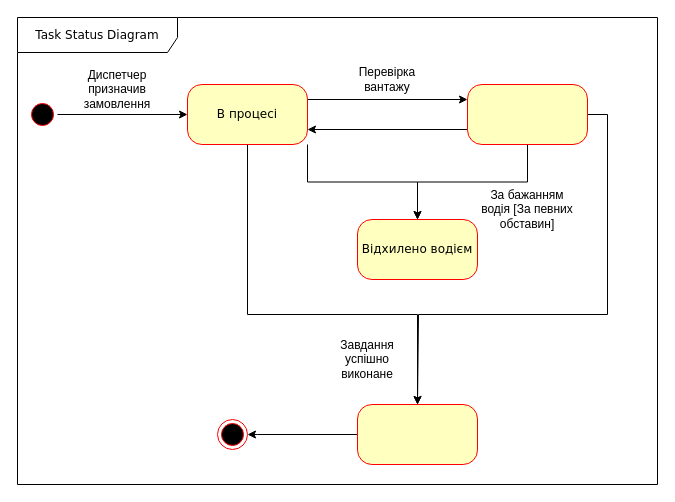
Some shapes in this 675 by 502 pixel diagram are drawn without their labels. Each missing label, with the centre of its shape:
Виконано: (x=417, y=434)
На інспекції: (x=527, y=114)
